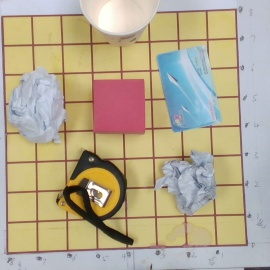card: (157, 44, 221, 134)
cup: (78, 1, 160, 48)
